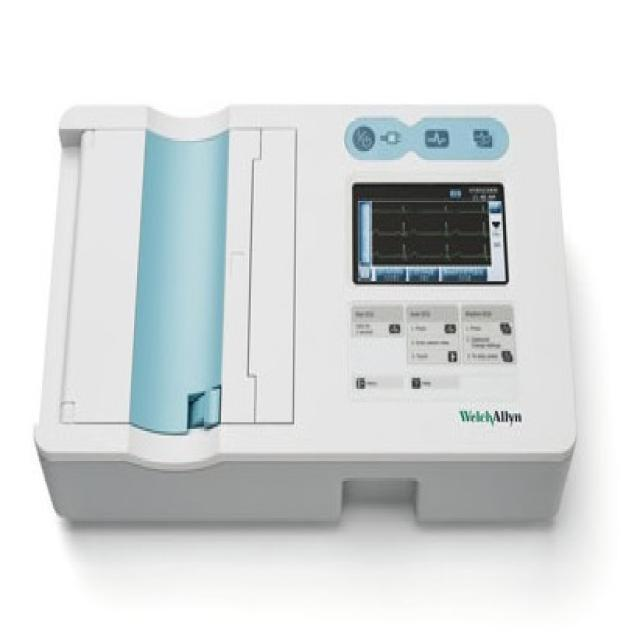Monitor: (32, 100, 576, 524)
